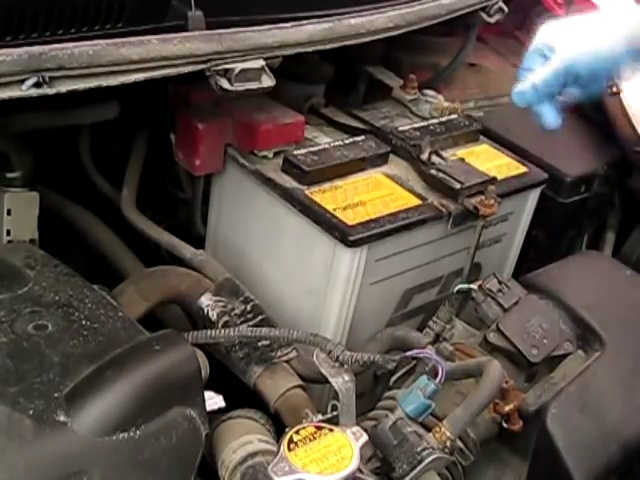battery: (188, 64, 513, 238)
neg_touched: (395, 54, 603, 145)
pos_connected: (183, 92, 311, 168)
